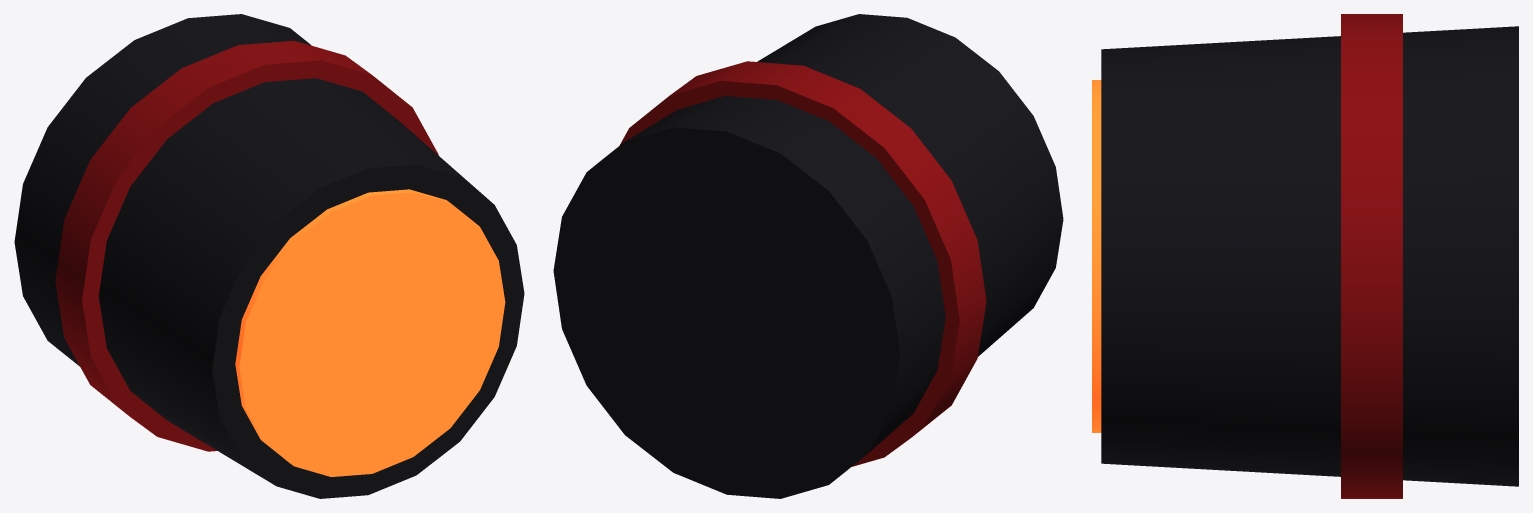
Rendered from destroyer_thruster.glb.
3 renders of one model, left to right at view 1: azimuth 30°, elevation 25°; view 2: azimuth 150°, elevation 25°; view 3: azimuth 270°, elevation 25°, orthographic. The views are drawn at different scales.
Parts seen in each view (by area): view 1: ThrusterHousing, ThrusterGlow, ThrusterRing; view 2: ThrusterHousing, ThrusterRing; view 3: ThrusterHousing, ThrusterRing, ThrusterGlow.
Boxes of the visible parts, box(x1,y1,x2,y2) form: ThrusterHousing: box(14, 14, 524, 498); ThrusterGlow: box(235, 189, 505, 476); ThrusterRing: box(55, 40, 438, 451); ThrusterHousing: box(553, 14, 1063, 498); ThrusterRing: box(619, 61, 986, 466); ThrusterHousing: box(1101, 26, 1518, 486); ThrusterRing: box(1341, 14, 1402, 498); ThrusterGlow: box(1092, 80, 1101, 432).
Bounding box in the file's own units: 63.2 × 63.2 × 55.2.
